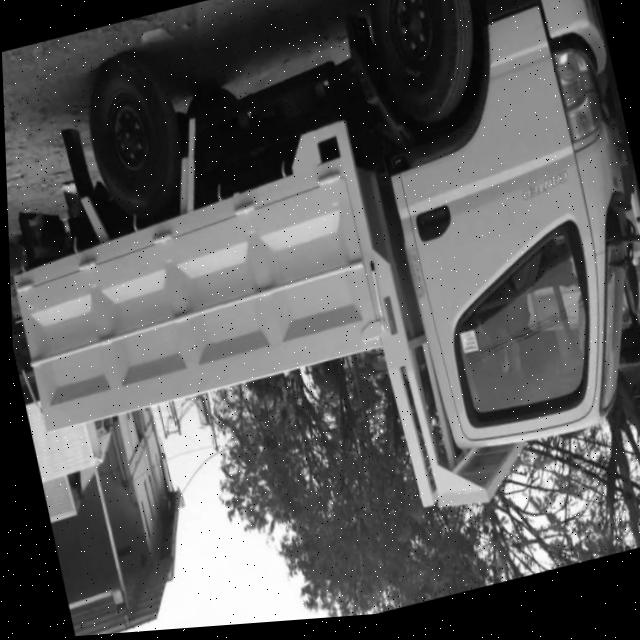truck: (296, 1, 640, 544)
